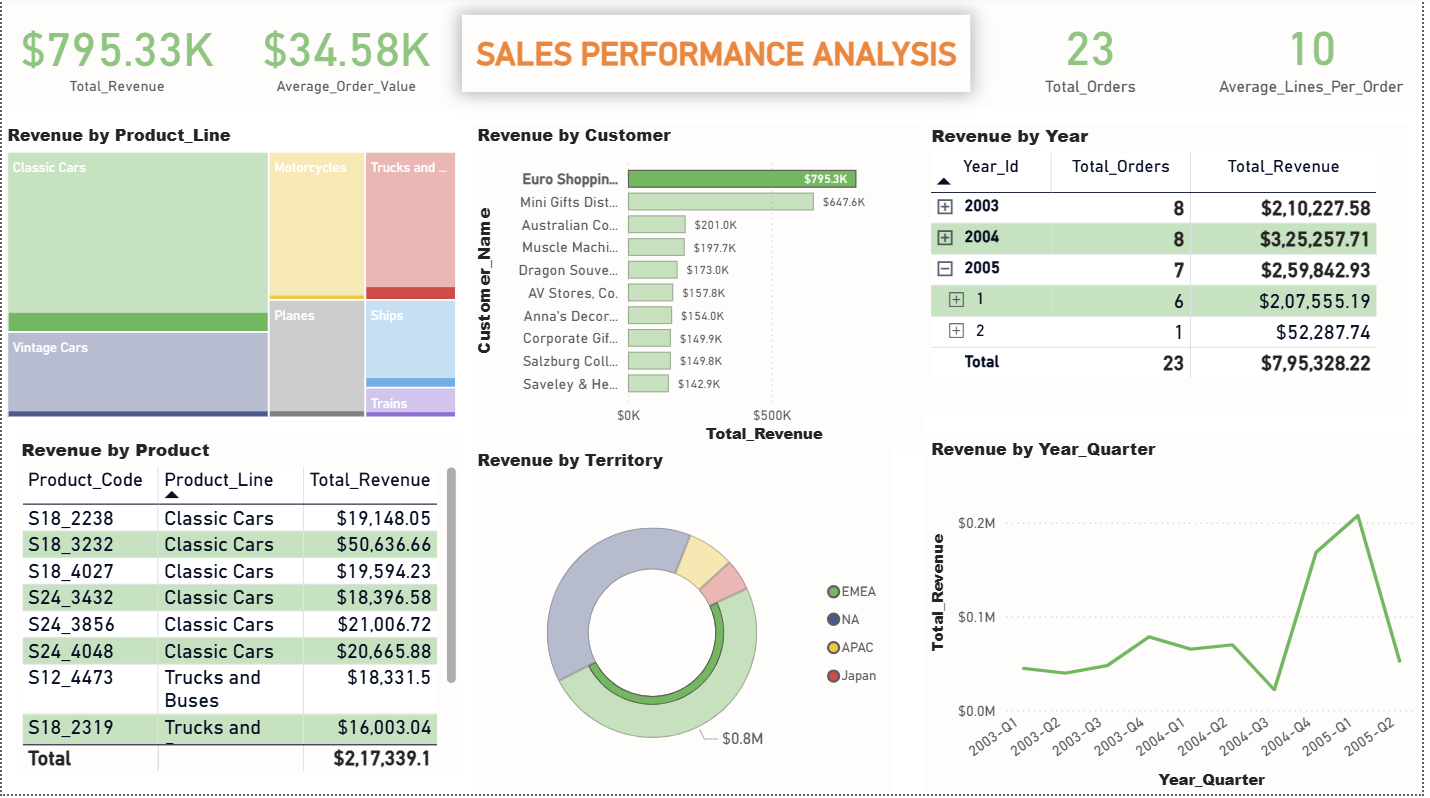

The dashboard page shown, as its layout file describes it:
{"tool":"powerbi","page":{"name":"Page 1","canvas":[1280,720],"ordinal":0},"visuals":[{"type":"card","fields":{"Values":["_Measure.Average_Lines_Per_Order"]},"box":[1081,0,199.3,102.7],"z":0},{"type":"card","fields":{"Values":["_Measure.Total_Revenue"]},"box":[0,0,207.9,102.7],"z":1000},{"type":"card","fields":{"Values":["_Measure.Total_Orders"]},"box":[882.9,0,198.1,102.7],"z":2000},{"type":"card","fields":{"Values":["_Measure.Average_Order_Value"]},"box":[207.9,0,206.7,102.7],"z":3000},{"type":"clusteredBarChart","title":"Revenue by Customer","fields":{"Y":["_Measure.Total_Revenue"],"Category":["Sales.Customer_Name"]},"box":[424.3,114.9,408.4,293.5],"z":5000},{"type":"pivotTable","title":"Revenue by Year","fields":{"Rows":["Sales.Year_Id","Sales.Quarter_Id","Sales.Month_Id"],"Values":["_Measure.Total_Orders","_Measure.Total_Revenue"]},"box":[832.7,114.9,435.3,261.7],"z":6000},{"type":"lineChart","title":"Revenue by Year_Quarter","fields":{"Category":["Sales.Year_Quarter"],"Y":["_Measure.Total_Revenue"]},"box":[832.7,397.4,447.6,322.8],"z":7000},{"type":"treemap","title":"Revenue by Product_Line","fields":{"Group":["Sales.Product_Line"],"Values":["_Measure.Total_Revenue"]},"box":[0,114.9,414.5,270.2],"z":8000},{"type":"tableEx","title":"Revenue by Product","fields":{"Values":["Sales.Product_Code","Sales.Product_Line","_Measure.Total_Revenue"]},"box":[12.2,397.4,402.3,305.7],"z":9000},{"type":"donutChart","title":"Revenue by Territory","fields":{"Category":["Sales.Territory"],"Y":["_Measure.Total_Revenue"]},"box":[424.3,408.4,379.1,311.8],"z":10000},{"type":"textbox","box":[414.8,16.9,458.7,69.9],"z":11000}]}

Visuals, with their boxes in screenshot pixels (x1, y1, x2, y2), scaled from the page's 1280x720 canvas onto the 1430x798 screenshot:
card - _Measure.Average_Lines_Per_Order: Rect(1208, 0, 1429, 114)
card - _Measure.Total_Revenue: Rect(0, 0, 232, 114)
card - _Measure.Total_Orders: Rect(986, 0, 1208, 114)
card - _Measure.Average_Order_Value: Rect(232, 0, 463, 114)
"Revenue by Customer" clusteredBarChart: Rect(474, 127, 930, 453)
"Revenue by Year" pivotTable: Rect(930, 127, 1417, 417)
"Revenue by Year_Quarter" lineChart: Rect(930, 440, 1429, 797)
"Revenue by Product_Line" treemap: Rect(0, 127, 463, 427)
"Revenue by Product" tableEx: Rect(14, 440, 463, 779)
"Revenue by Territory" donutChart: Rect(474, 453, 898, 797)
textbox: Rect(463, 19, 976, 96)
